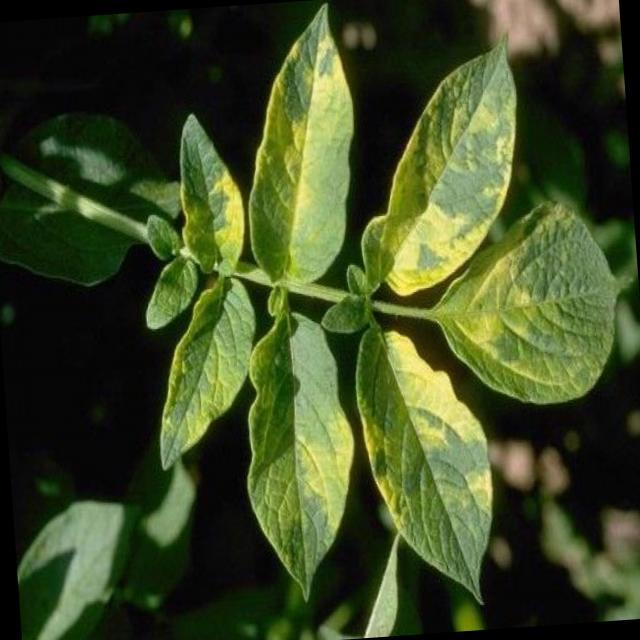Mosaic Virus: (349, 47, 536, 298), (242, 0, 368, 291), (242, 312, 352, 598), (442, 236, 626, 395), (364, 352, 476, 602), (138, 268, 269, 468), (173, 92, 245, 295)
